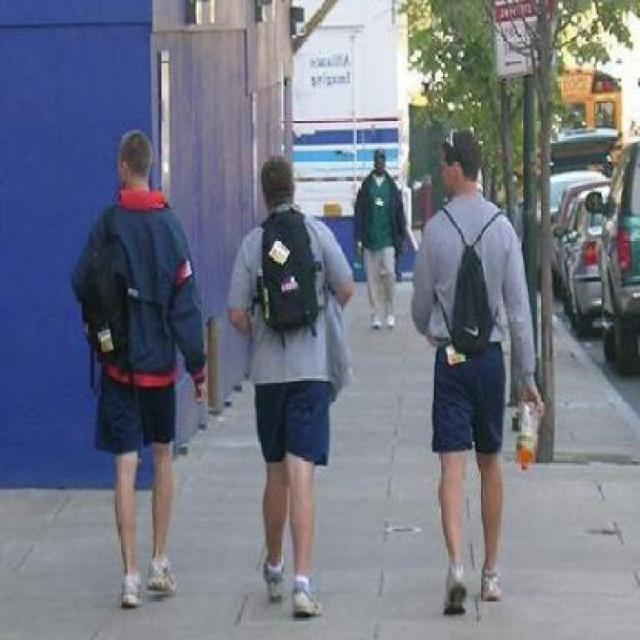Person: (407, 126, 547, 623), (72, 125, 211, 609), (229, 150, 353, 624), (354, 142, 409, 333)
